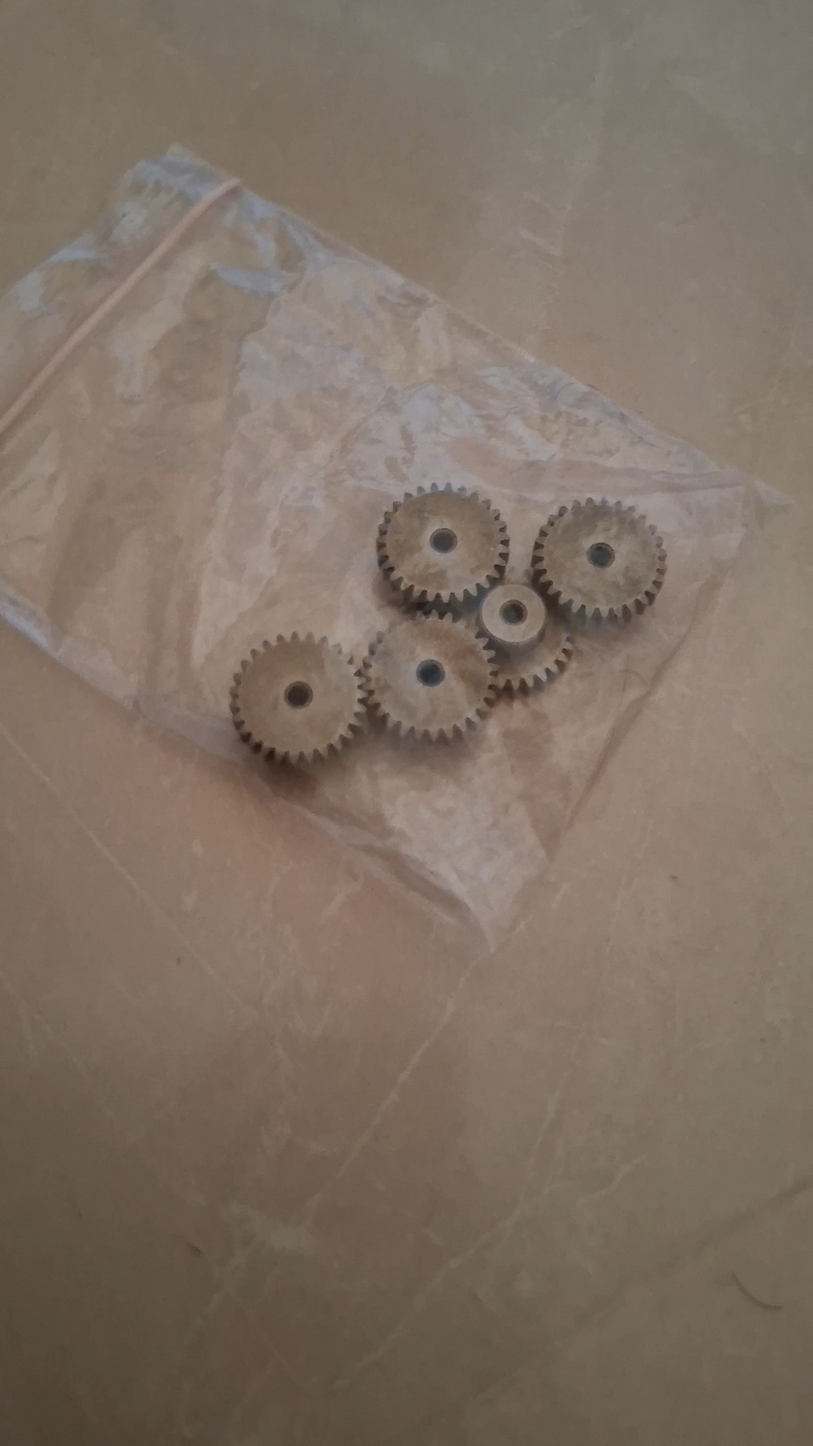spur gear: (230, 634, 364, 763), (364, 613, 496, 741), (377, 484, 509, 609), (533, 498, 666, 622), (479, 581, 573, 692)
